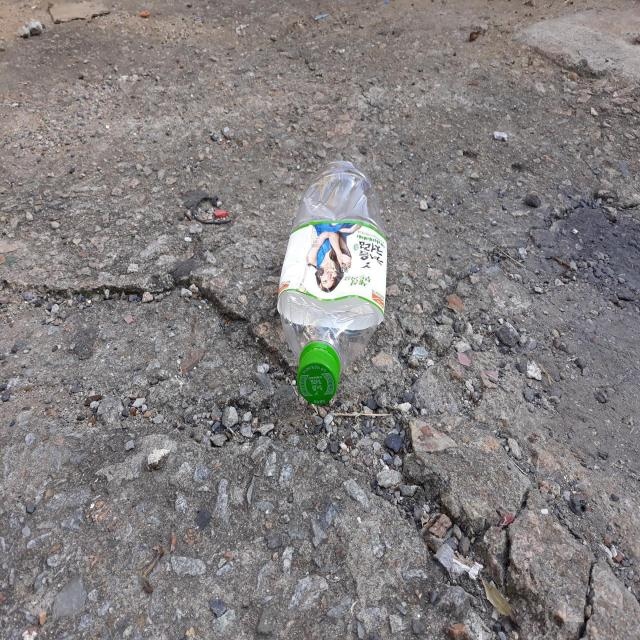plastic: (277, 160, 387, 404)
